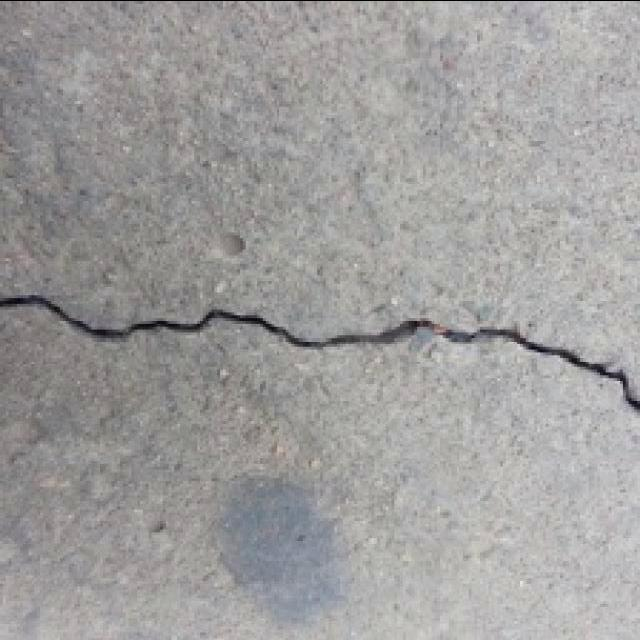SurfaceCrack: (0, 292, 634, 412)
